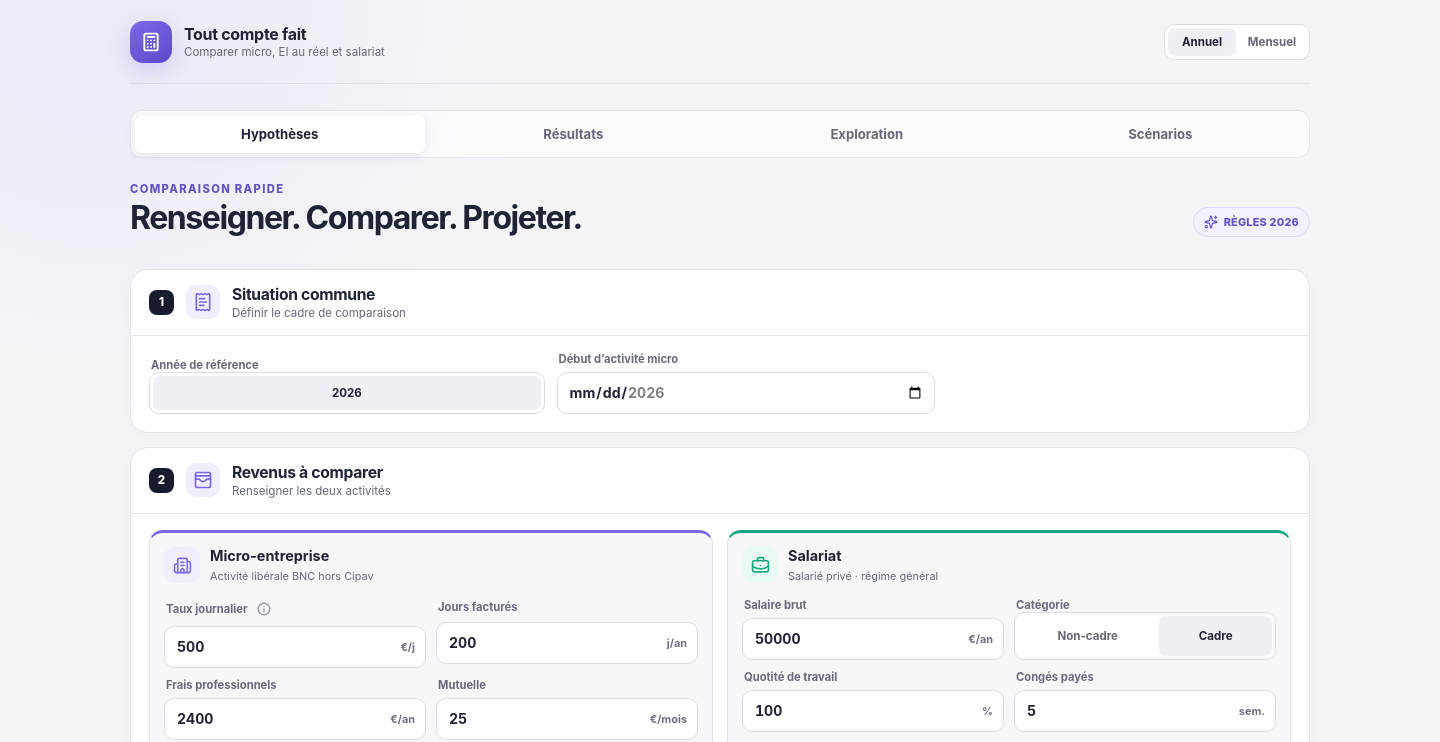
Test: decision tools › keeps inputs separate and exposes collapsed native tool panels
Expected: the number field labelled "Taux journalier" is shown, [175,637,394,656]
Click the tab "Exploration": (867, 134) [722,115,1012,153]
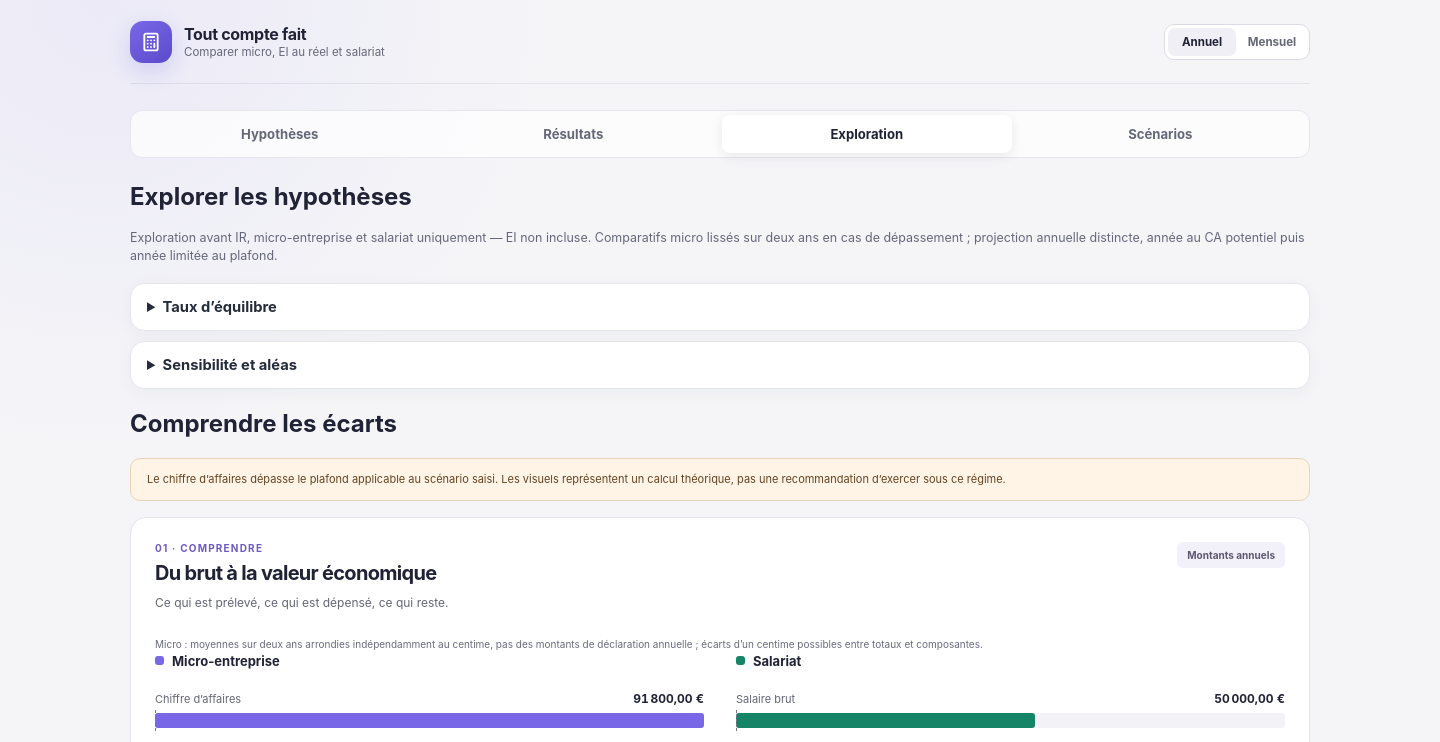
Expected: the heading "Taux d’équilibre" is shown, [163,298,277,316]
Expected: the heading "Sensibilité et aléas" is shown, [163,356,297,374]
Click the tab "Scénarios": (1160, 134) [1016,115,1305,153]
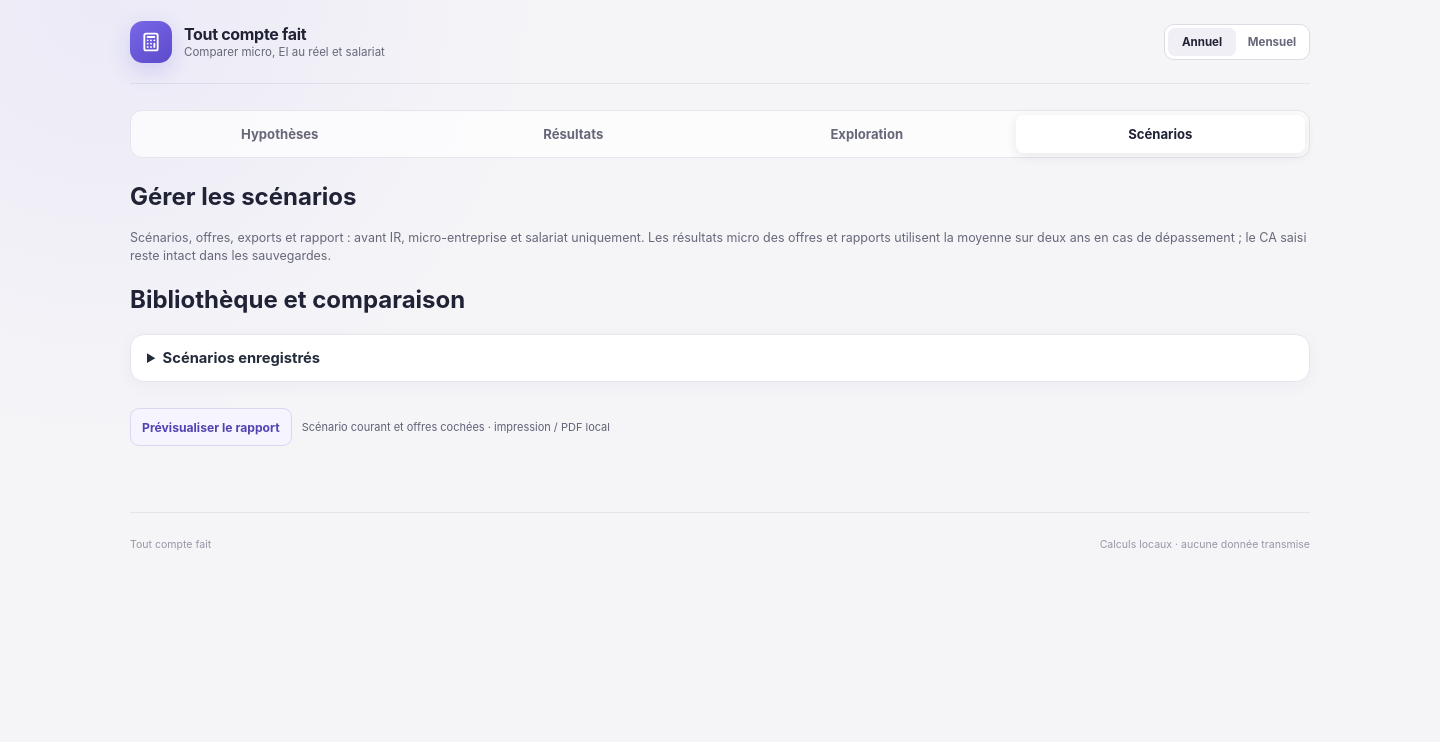
Expected: the heading "Scénarios enregistrés" is shown, [163,349,320,367]
